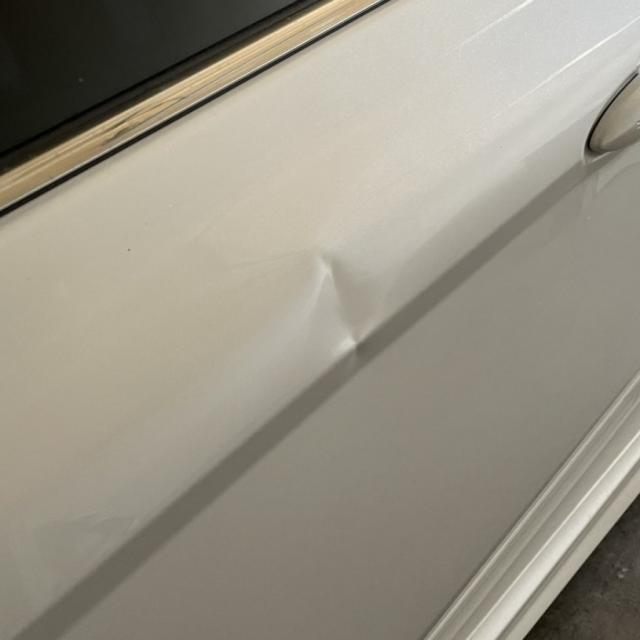dents: (283, 252, 435, 386)
